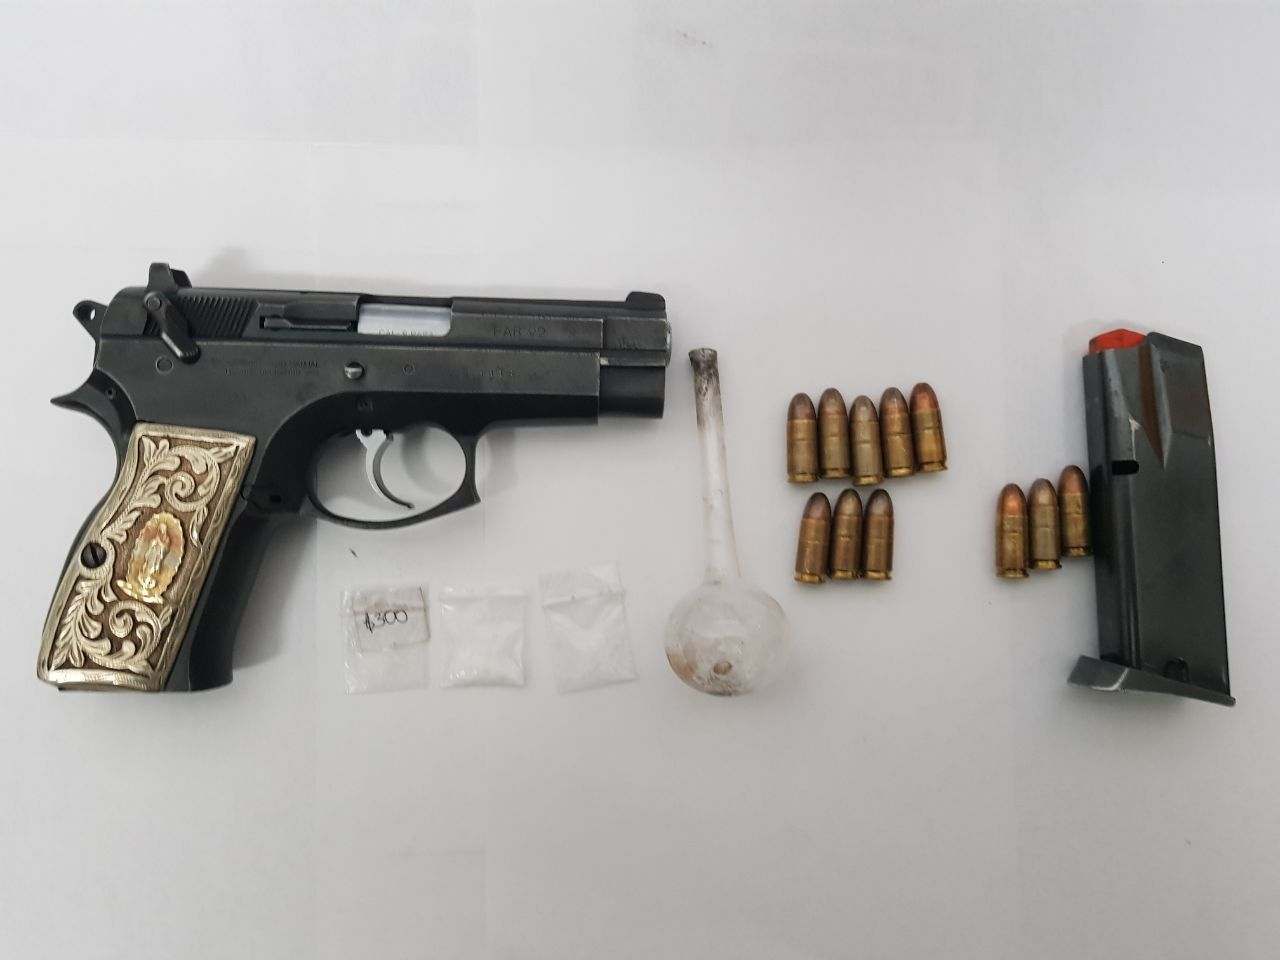Arma Real: (29, 257, 665, 692)
